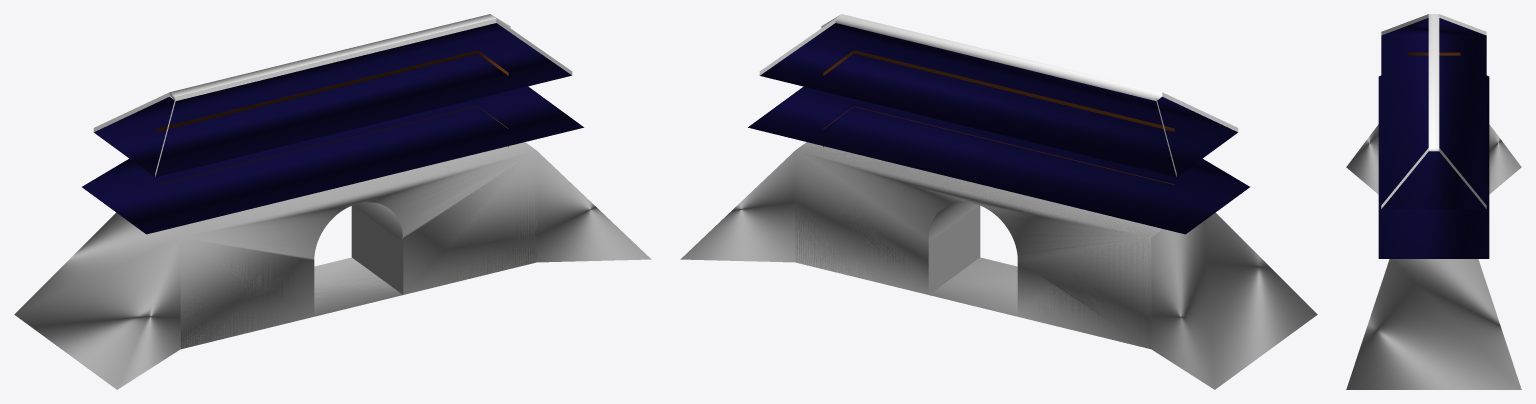
Rendered from sungnyemun.glb.
The picture shows the model from 3 angles, left to right: view 1: azimuth 30°, elevation 25°; view 2: azimuth 150°, elevation 25°; view 3: azimuth 270°, elevation 25°; orthographic projection. The views are drawn at different scales.
Parts seen in each view (by area): view 1: Cube.002, Cube, Cube.004, Cube.006, Cube.005; view 2: Cube.002, Cube, Cube.004, Cube.006, Cube.005; view 3: Cube.002, Cube, Cube.004, Cube.006, Cube.005.
Part boxes in pixels (bbox=[...]): Cube.002: bbox=[14, 142, 651, 389]; Cube: bbox=[94, 23, 571, 177]; Cube.004: bbox=[82, 86, 583, 234]; Cube.006: bbox=[93, 14, 572, 176]; Cube.005: bbox=[157, 50, 508, 131]; Cube.002: bbox=[680, 142, 1317, 389]; Cube: bbox=[760, 23, 1237, 177]; Cube.004: bbox=[748, 86, 1249, 234]; Cube.006: bbox=[759, 14, 1238, 176]; Cube.005: bbox=[823, 50, 1174, 131]; Cube.002: bbox=[1346, 124, 1521, 389]; Cube: bbox=[1381, 18, 1486, 209]; Cube.004: bbox=[1378, 75, 1489, 258]; Cube.006: bbox=[1381, 14, 1486, 208]; Cube.005: bbox=[1407, 52, 1460, 55].
Bounding box in the file's own units: 6 × 2.49 × 2.
